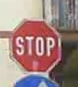stop: (9, 16, 61, 73)
